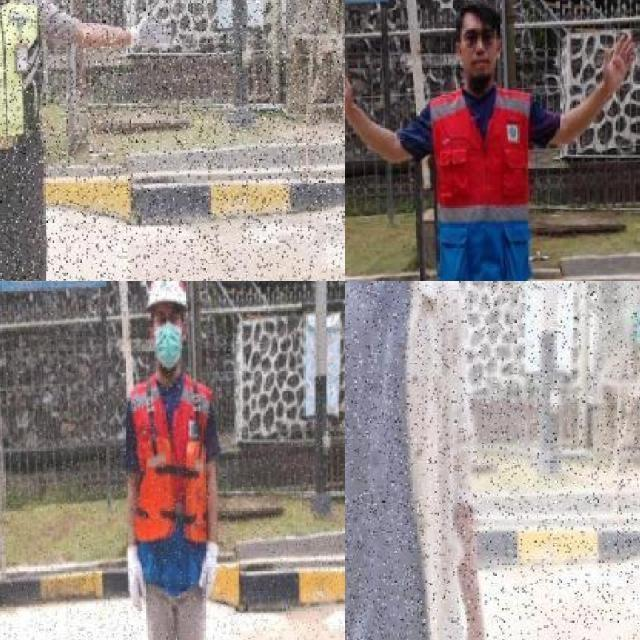apron: (127, 8, 175, 58), (124, 544, 150, 616), (198, 536, 221, 607)
